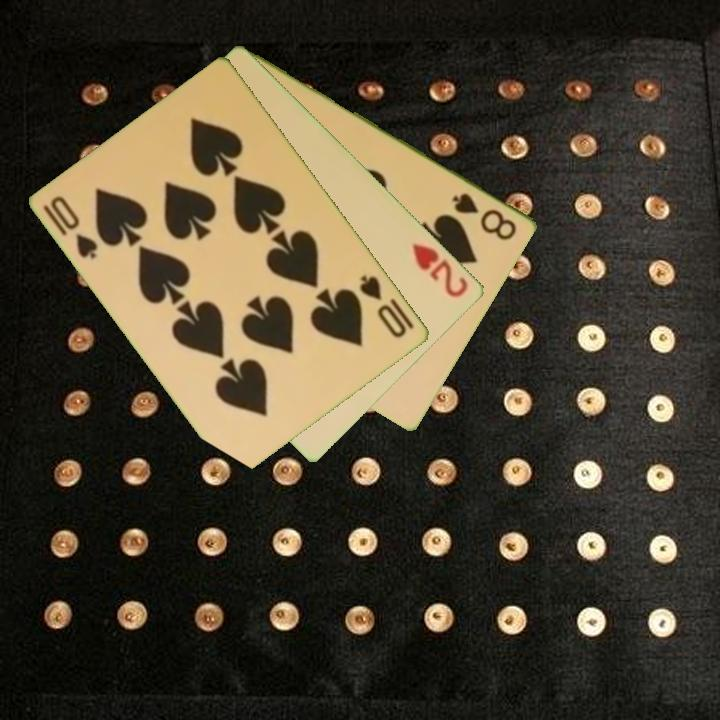10s: (40, 192, 102, 262), (356, 271, 410, 341)
2h: (409, 239, 472, 300)
8s: (449, 189, 521, 244)
